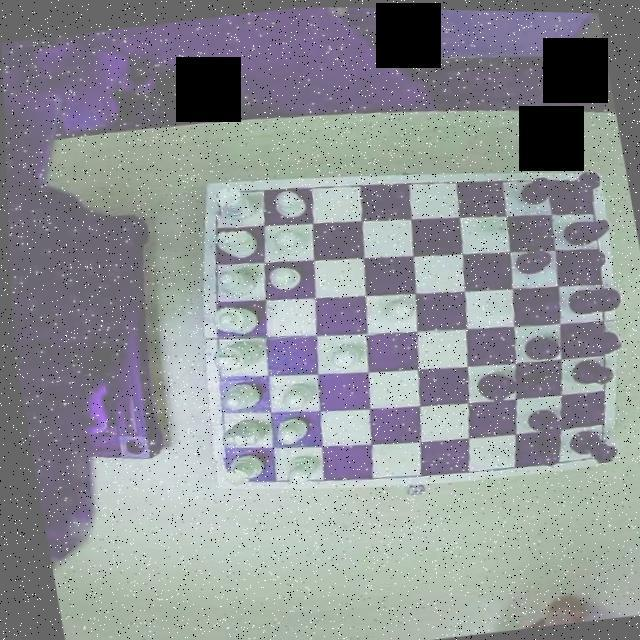chess-table-corners: (202, 178, 240, 216), (209, 451, 244, 488), (566, 168, 600, 202), (582, 432, 616, 462)
